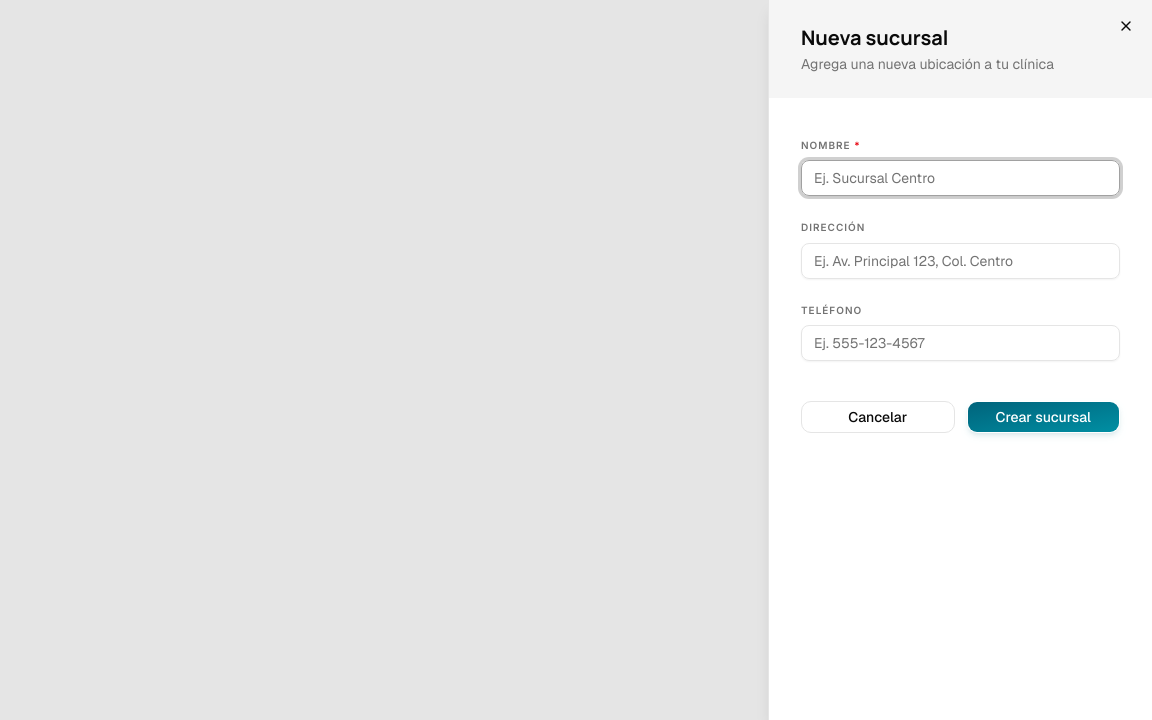
Scenario: LocationDrawer › shows validation error when name is empty and form is submitted
This screenshot has width=1152, height=720.
Click the button "Crear sucursal".
click(1043, 417)  # box x1=966 y1=401 x2=1120 y2=433
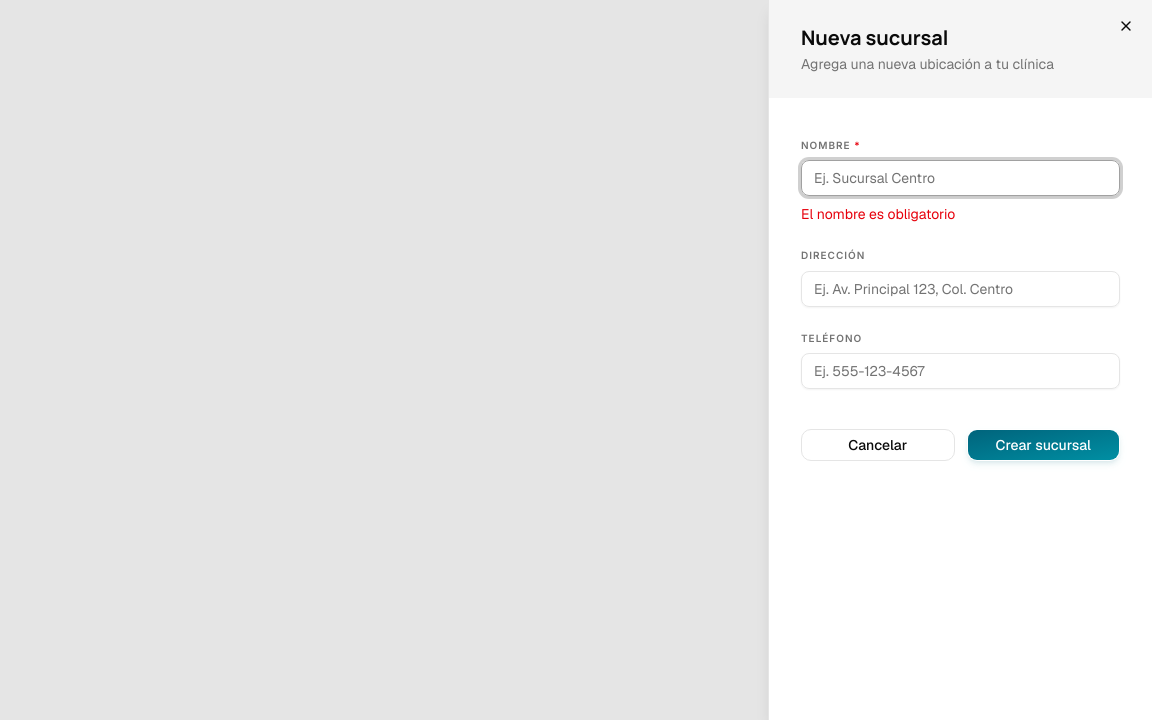
Result: the text "El nombre es obligatorio" is shown at x1=801 y1=205 x2=955 y2=223
